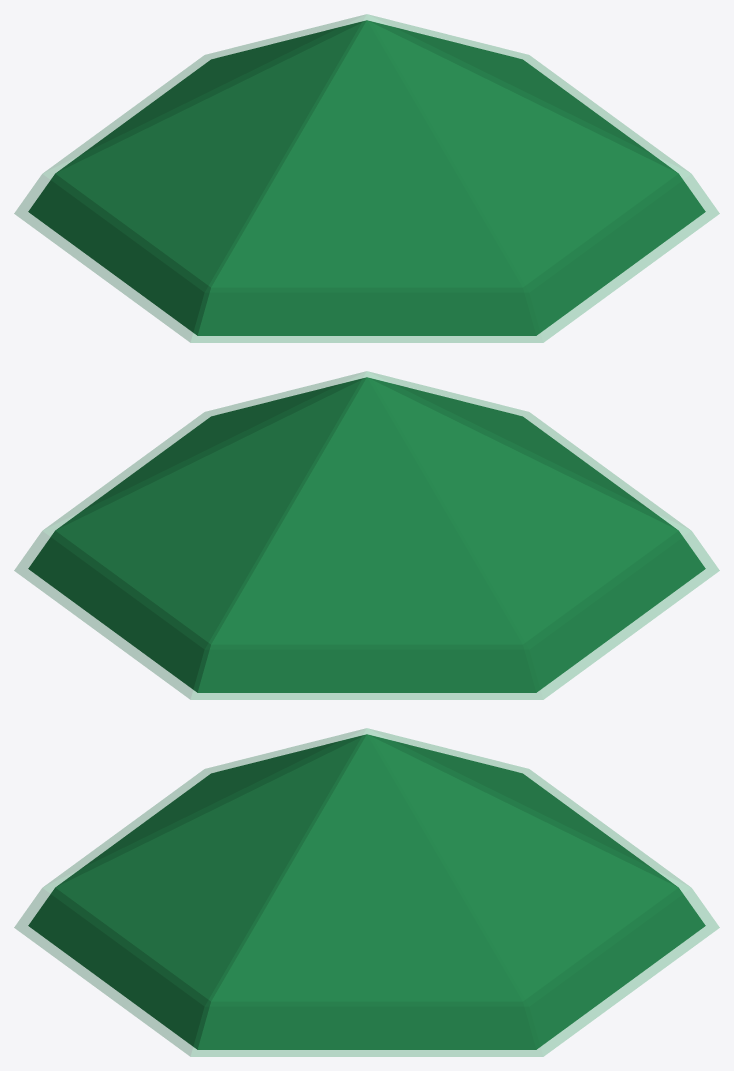
The model's file is item_gem6.glb.
The picture shows the model from 3 angles, top to bottom: view 1: azimuth 30°, elevation 25°; view 2: azimuth 150°, elevation 25°; view 3: azimuth 270°, elevation 25°; orthographic projection.
Parts seen in each view (by area): view 1: jewellery_gem6_glass, jewellery_gem6; view 2: jewellery_gem6_glass, jewellery_gem6; view 3: jewellery_gem6_glass, jewellery_gem6.
Part boxes in pixels (x1,y1,x2,y2): jewellery_gem6_glass: (14, 14, 719, 342); jewellery_gem6: (28, 20, 705, 335); jewellery_gem6_glass: (14, 371, 719, 699); jewellery_gem6: (28, 377, 705, 692); jewellery_gem6_glass: (14, 728, 719, 1056); jewellery_gem6: (28, 734, 705, 1049).
Size of the model in its own units: 0.866 by 0.48 by 1.
